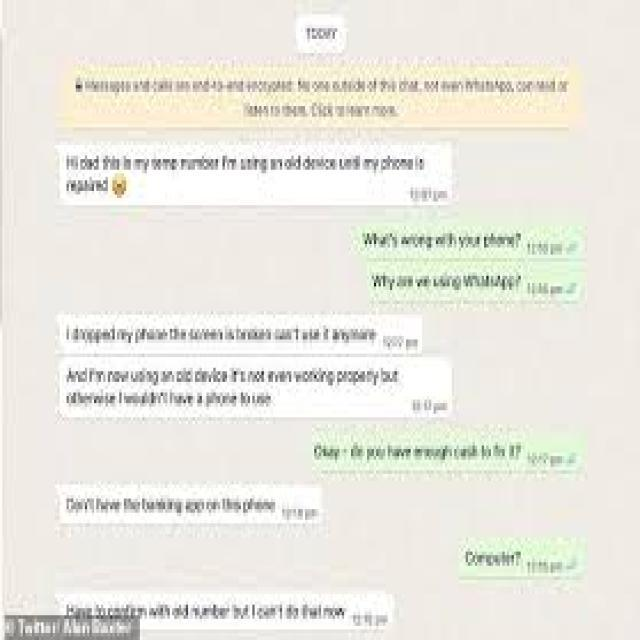scam: (58, 142, 452, 204), (58, 358, 450, 414), (56, 592, 387, 640), (63, 310, 415, 352), (58, 476, 330, 526)
